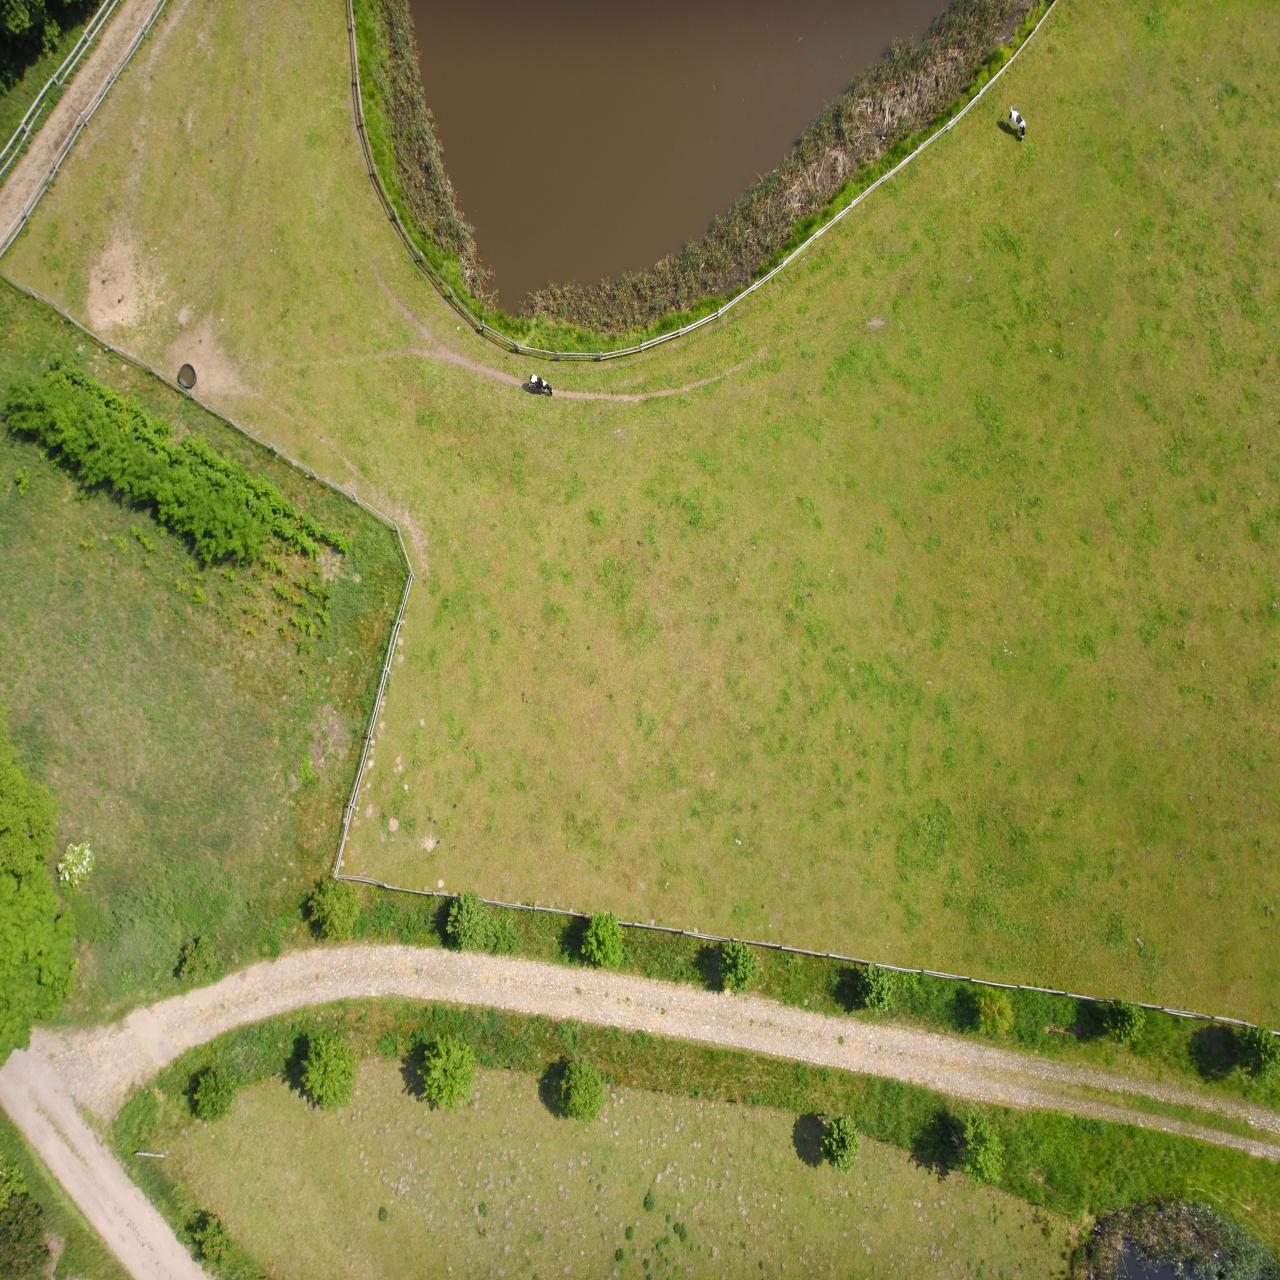cow: (253, 1138, 274, 1175), (727, 884, 750, 905)
